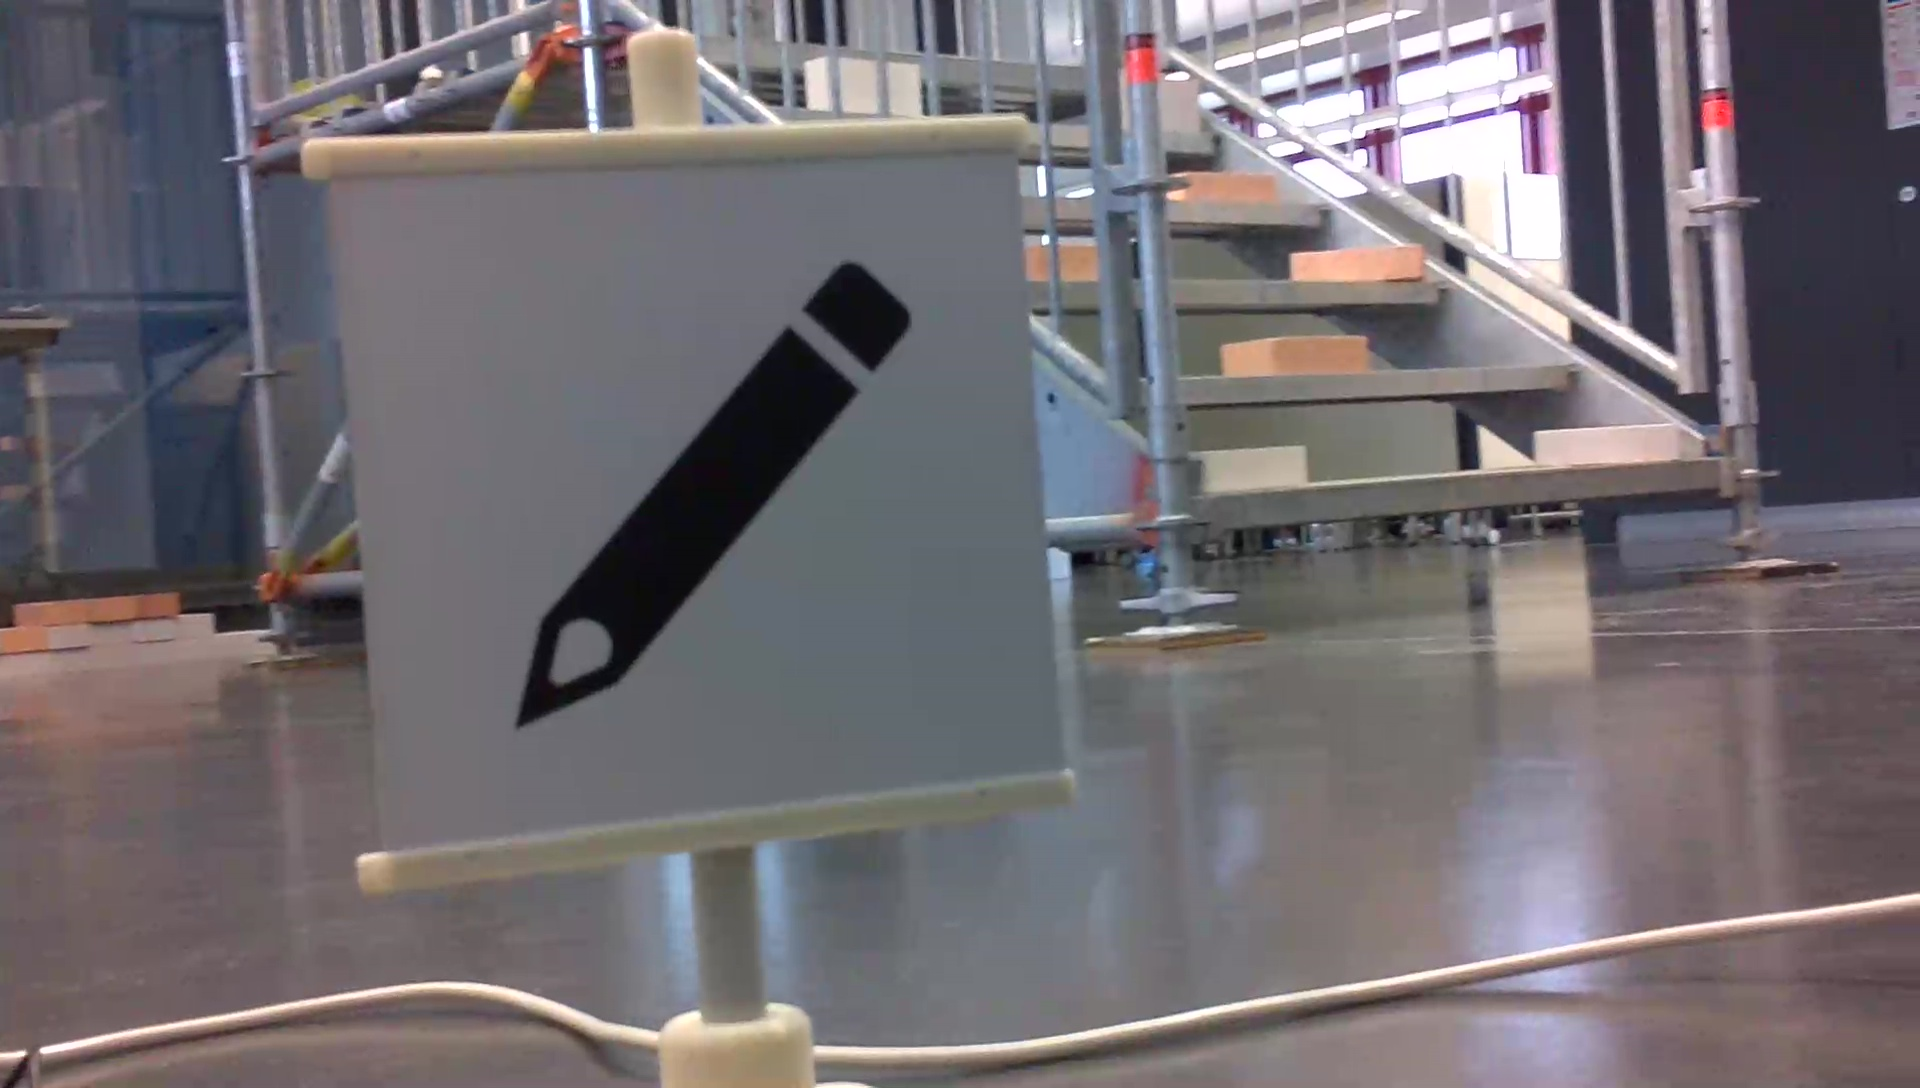brick: (1222, 334, 1365, 375), (1538, 425, 1677, 463), (1200, 443, 1304, 489), (1294, 247, 1424, 278), (1171, 171, 1275, 203), (1155, 80, 1197, 129)
edge: (1197, 462, 1722, 533), (1178, 361, 1576, 402)
pencil: (498, 239, 934, 739)
stairs: (1087, 0, 1836, 650)
